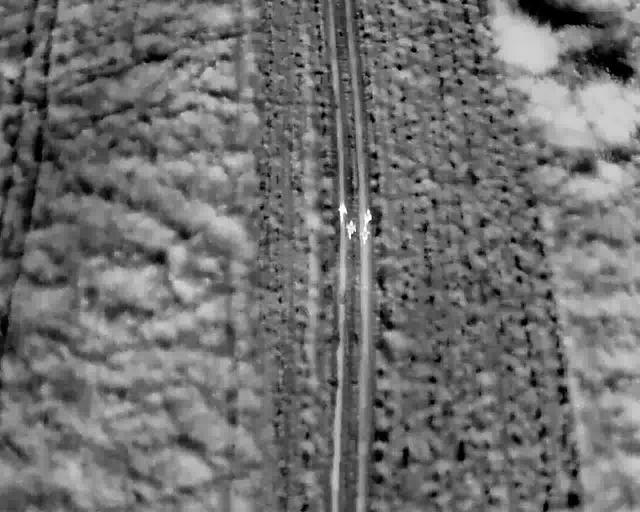person: (345, 217, 356, 240), (358, 225, 370, 245), (337, 202, 347, 223), (362, 208, 372, 227)
